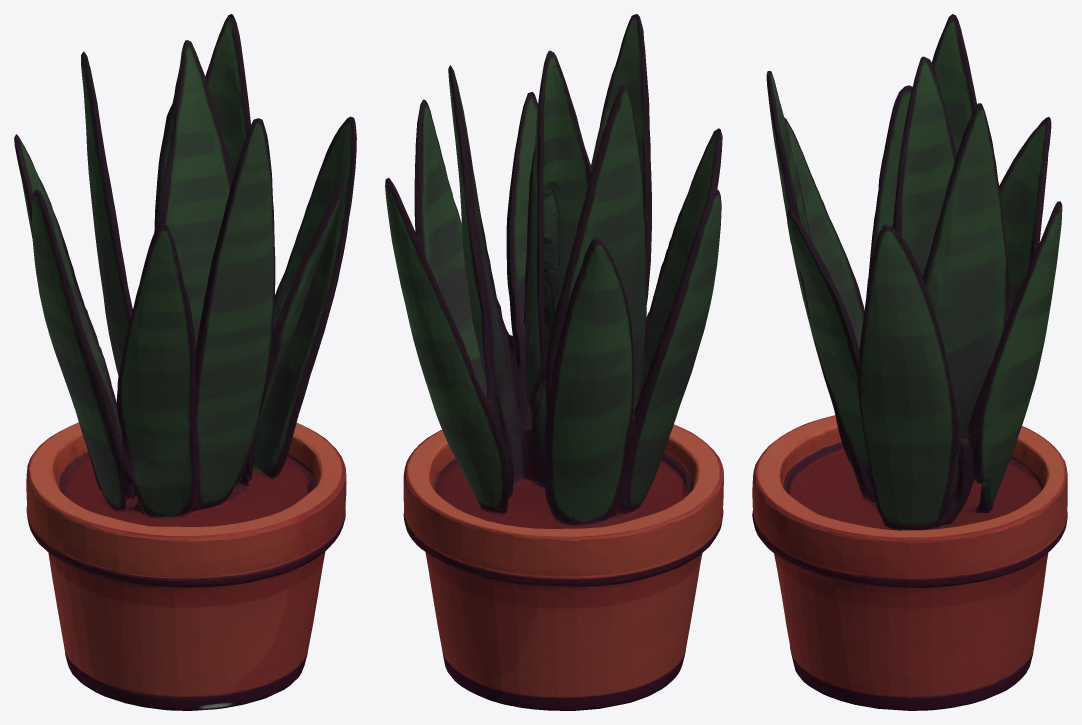
The picture shows the model from 3 angles, left to right: view 1: azimuth 30°, elevation 25°; view 2: azimuth 150°, elevation 25°; view 3: azimuth 270°, elevation 25°; orthographic projection.
Visible parts, largest first — view 1: world; view 2: world; view 3: world.
Boxes of the visible parts, <box> form: world: <box>14,14,356,710</box>; world: <box>385,14,723,710</box>; world: <box>752,14,1067,710</box>.
Size of the model in its own units: 52.21 by 99.73 by 46.83.
1 material, 1 textured.
